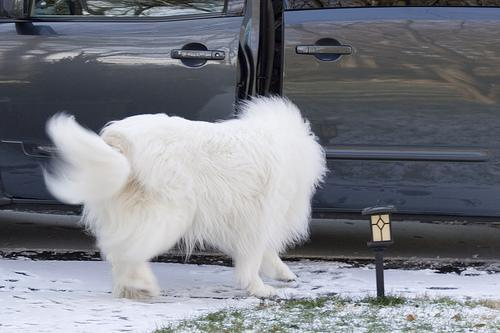Great_Pyrenees: (45, 95, 334, 297)
